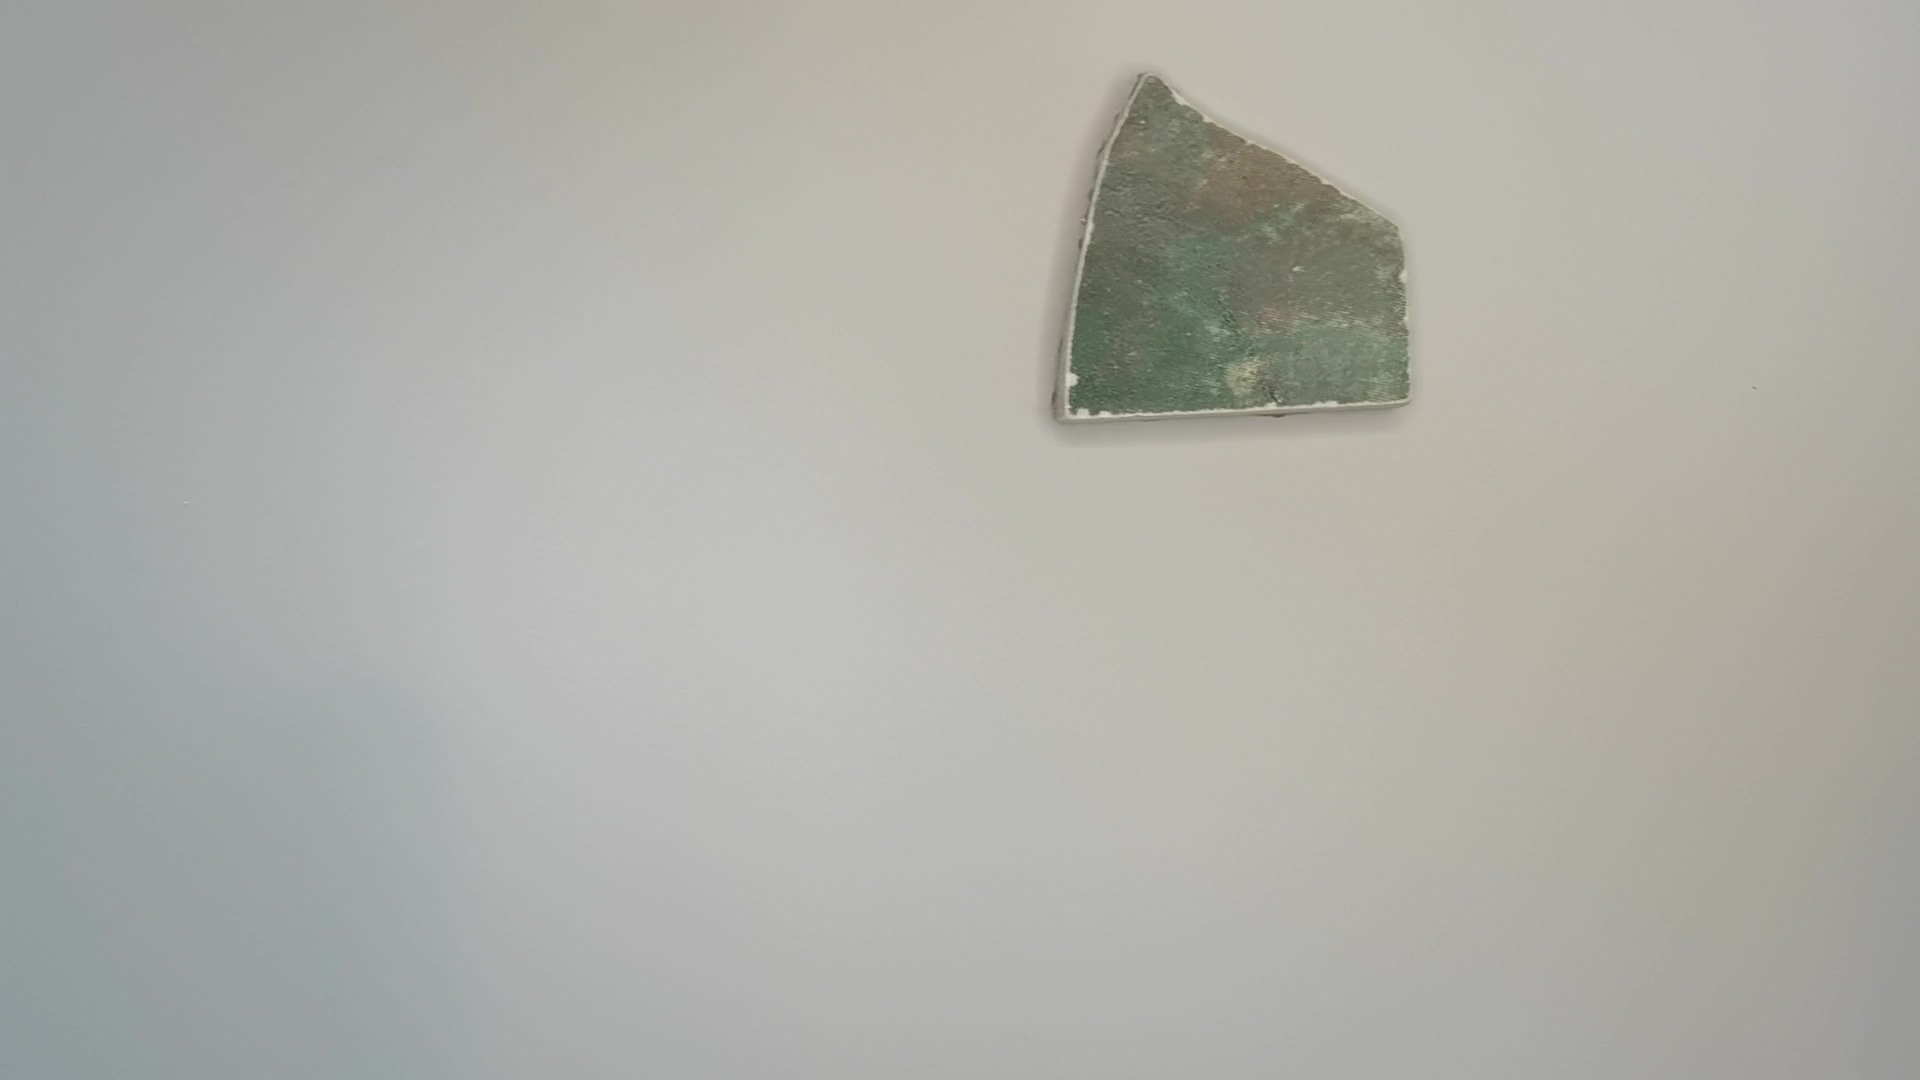ceramic: (1048, 69, 1425, 439)
